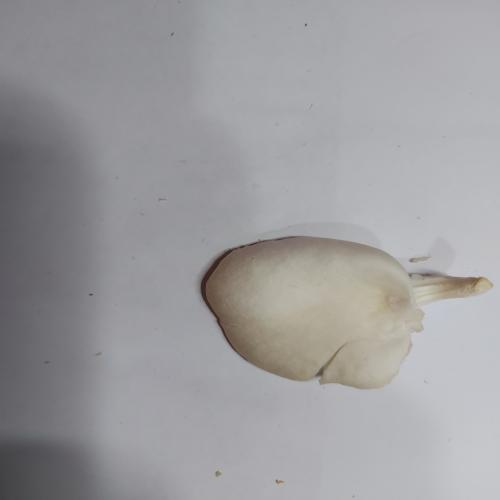Oyster Mushroom: (201, 234, 493, 390)
